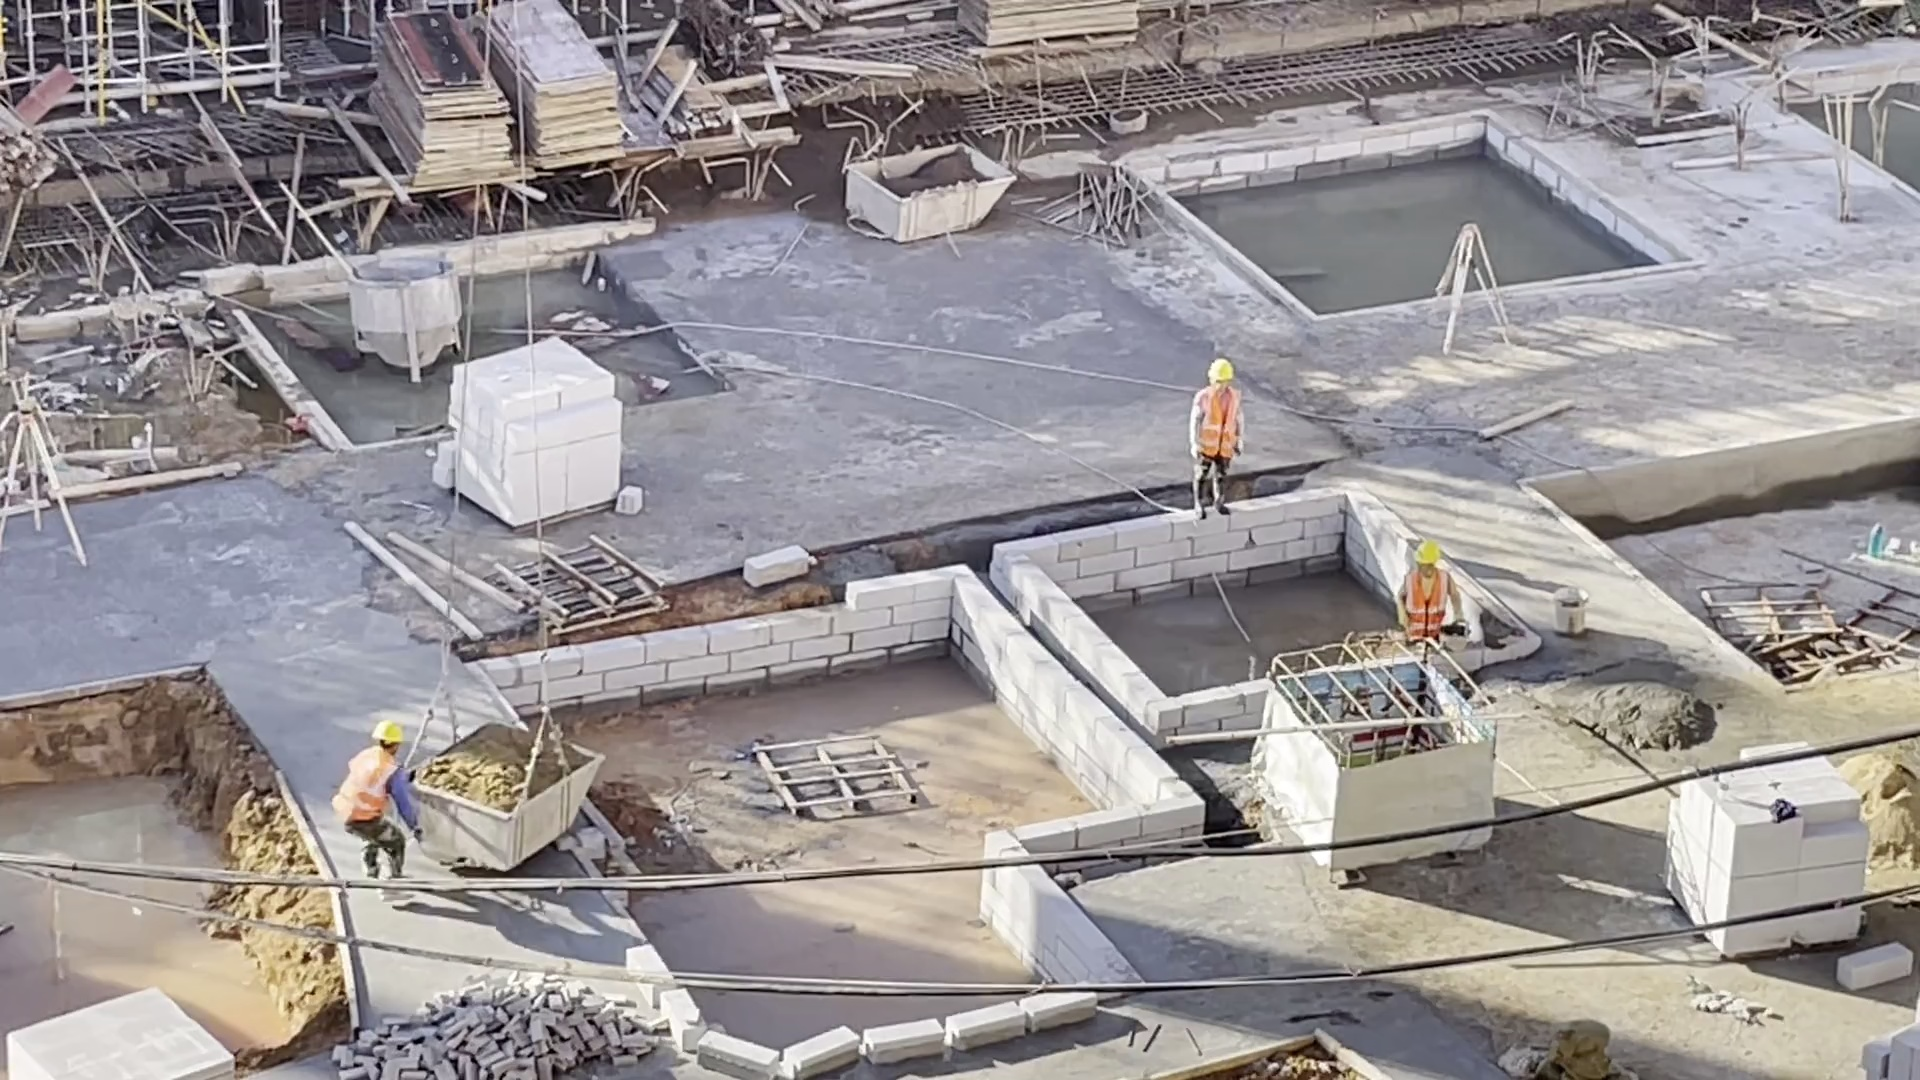board: (373, 9, 525, 194), (478, 2, 636, 175), (949, 6, 1147, 57)
brick: (438, 328, 646, 531), (1, 975, 247, 1079), (1647, 791, 1871, 898)
helmet: (369, 719, 407, 748), (1204, 356, 1237, 383), (1411, 542, 1444, 565)
hopper: (419, 720, 604, 871), (839, 141, 1013, 243), (343, 249, 465, 387)
person: (332, 722, 436, 909), (1175, 352, 1254, 519), (1385, 539, 1473, 645)
vest: (339, 749, 403, 824), (1194, 386, 1241, 462), (1402, 569, 1447, 640)
wood: (1, 95, 64, 195)
